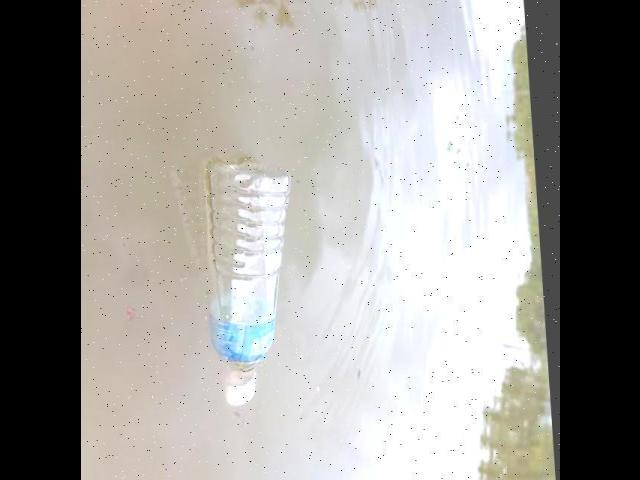Bottle: (198, 154, 290, 412)
